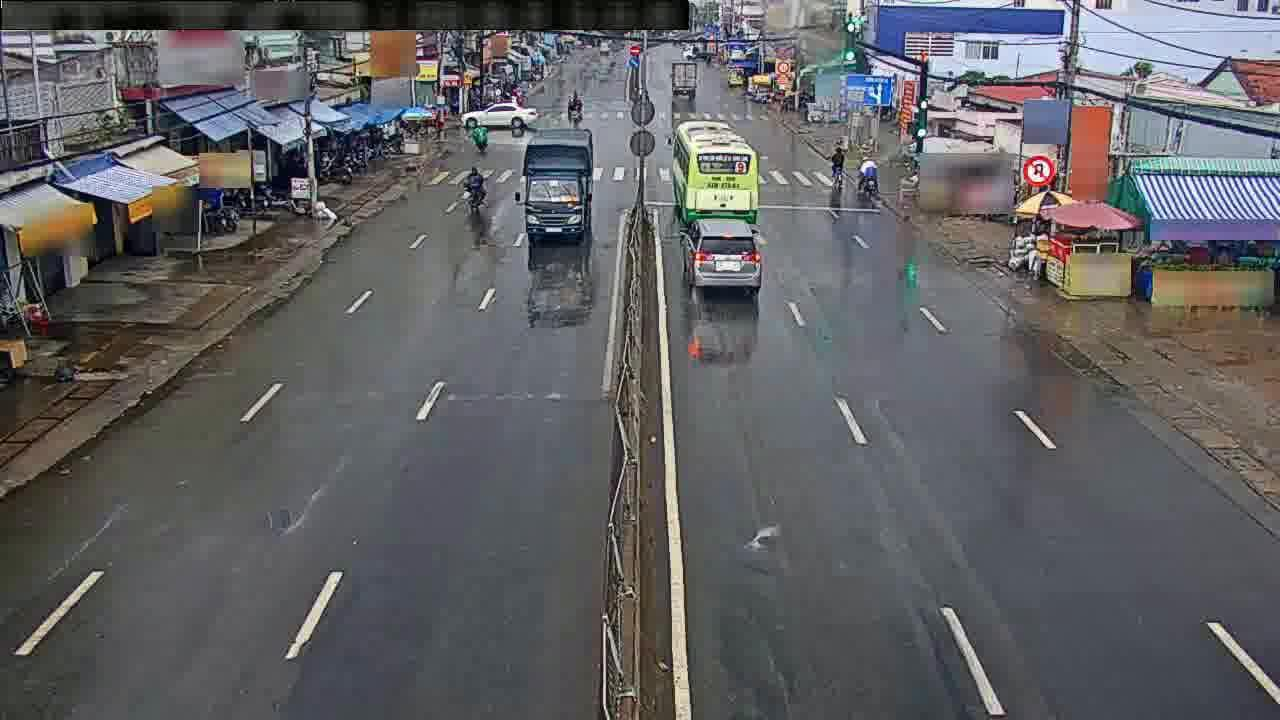14: (523, 129, 592, 245), (674, 117, 752, 219)
container: (677, 219, 765, 301), (457, 97, 540, 133)
motorbike: (463, 162, 492, 216), (853, 158, 879, 202), (827, 143, 847, 184)
